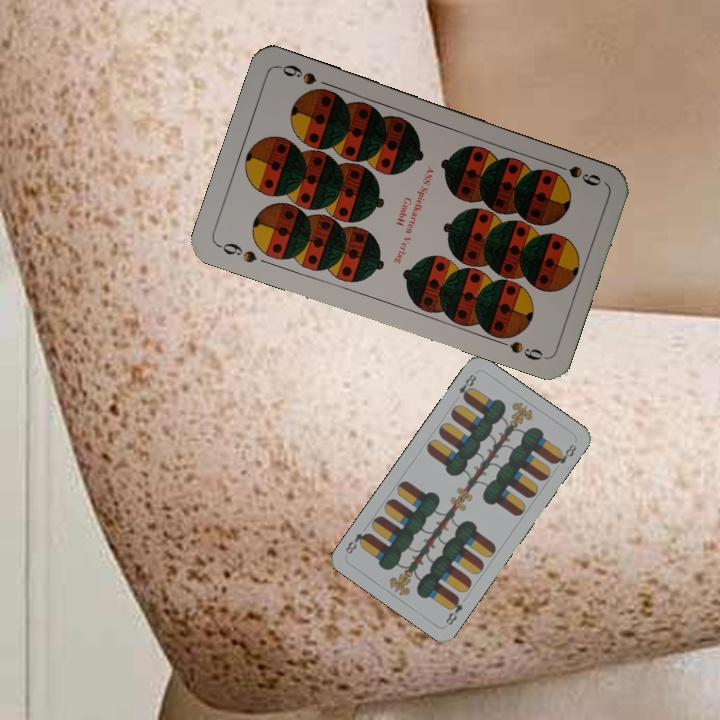E8: (441, 592, 466, 628), (454, 370, 479, 403)
S9: (548, 159, 604, 189), (214, 238, 260, 266)
